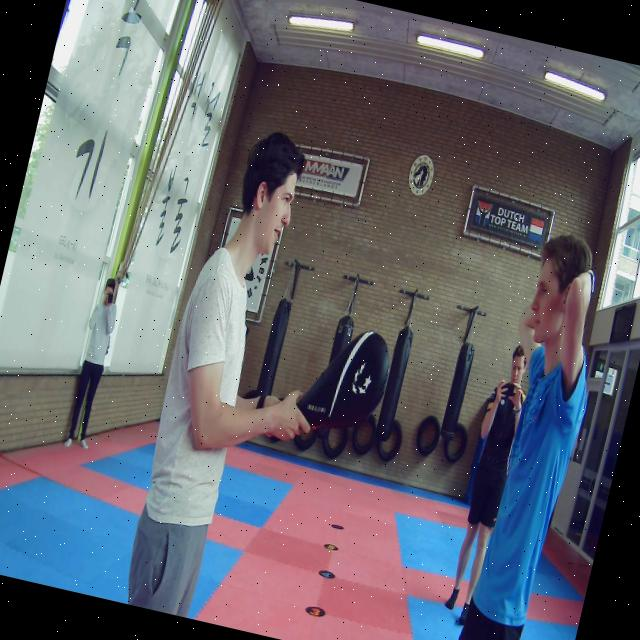paddle: (296, 328, 387, 429)
